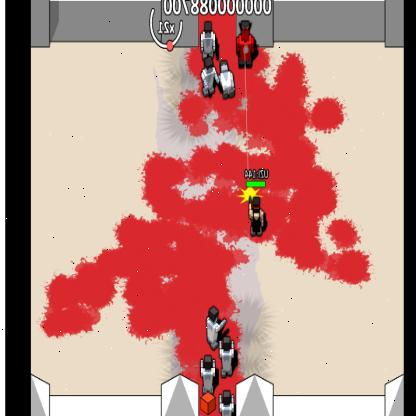agent: (248, 196, 265, 238)
boss: (235, 21, 254, 70)
jombie: (199, 353, 217, 397), (199, 20, 217, 61), (206, 306, 220, 350), (201, 60, 217, 98), (220, 336, 234, 378), (218, 389, 235, 415)
